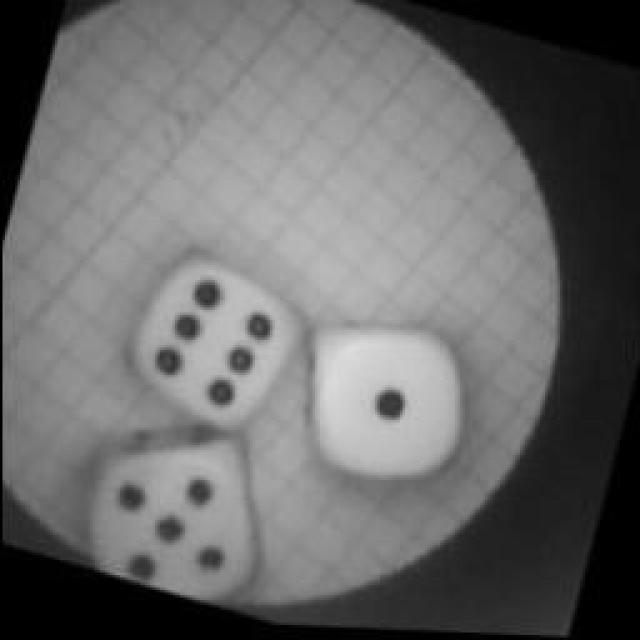dice_1: (286, 302, 492, 502)
dice_5: (72, 405, 292, 620)
dice_6: (111, 244, 316, 454)
